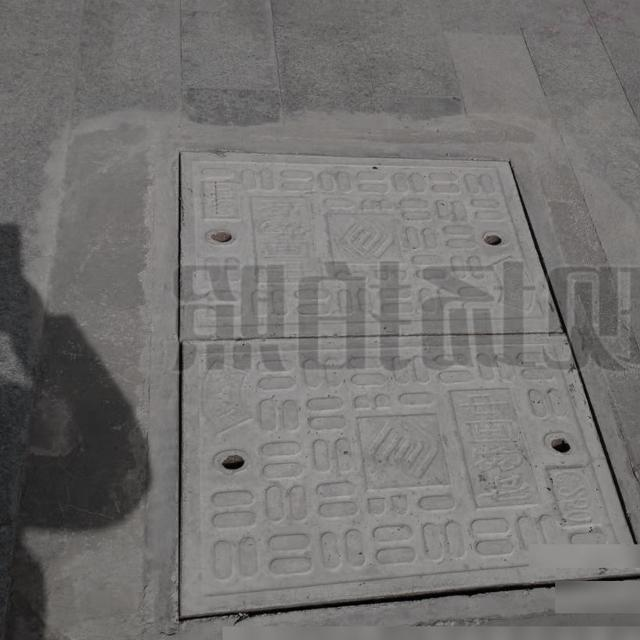good: (168, 137, 640, 612)
